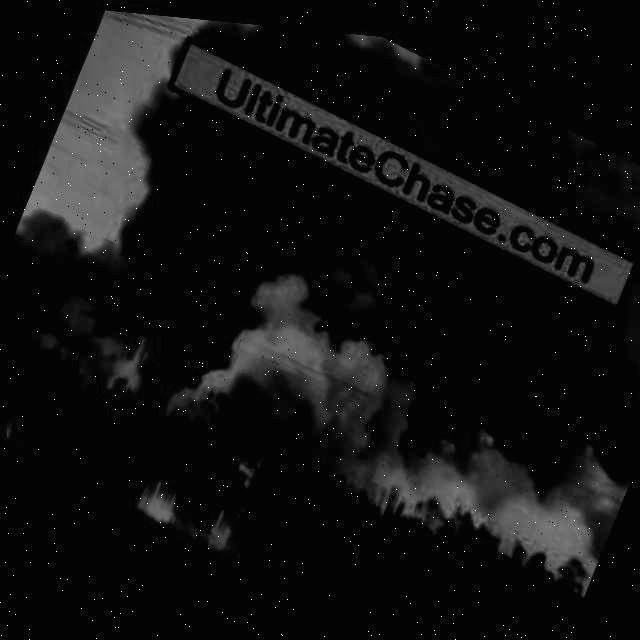Fire: (131, 403, 281, 570), (136, 412, 273, 557), (101, 313, 174, 426), (5, 398, 26, 447), (5, 401, 26, 440)
Smoke: (40, 68, 640, 590), (185, 14, 640, 276)
